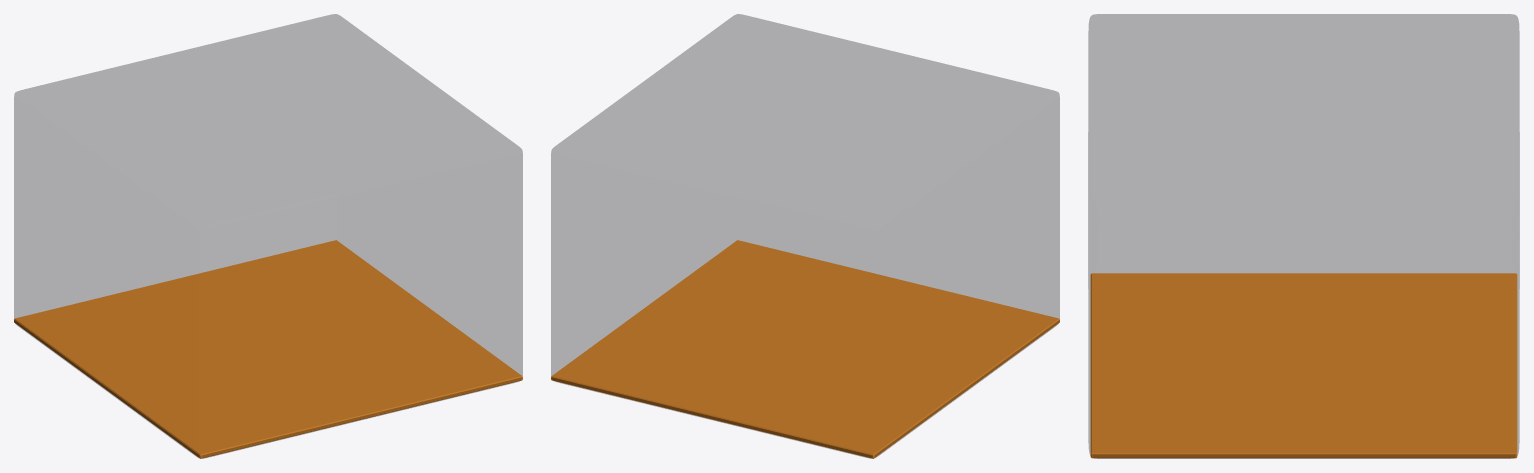
Rendered from CheesPack.fbx.
The picture shows the model from 3 angles, left to right: view 1: azimuth 30°, elevation 25°; view 2: azimuth 150°, elevation 25°; view 3: azimuth 270°, elevation 25°; orthographic projection. The views are drawn at different scales.
Parts seen in each view (by area): view 1: CheesePack, Cheese; view 2: CheesePack, Cheese; view 3: CheesePack, Cheese.
Boxes of the visible parts, x1=… form: CheesePack: x1=14, y1=14, x2=522, y2=458; Cheese: x1=14, y1=240, x2=522, y2=458; CheesePack: x1=551, y1=14, x2=1059, y2=458; Cheese: x1=551, y1=240, x2=1059, y2=458; CheesePack: x1=1088, y1=14, x2=1519, y2=458; Cheese: x1=1090, y1=273, x2=1517, y2=458.
Size of the model in its own units: 171 by 117 by 171.
Materials: 2 (1 with a texture image).
